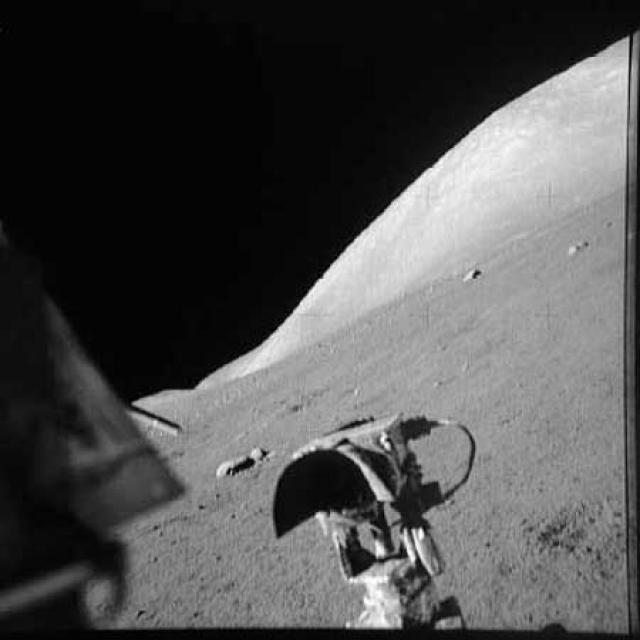artifact: (1, 253, 182, 640), (267, 402, 491, 638)
rock: (206, 438, 273, 486), (460, 263, 490, 290), (564, 237, 593, 258)
